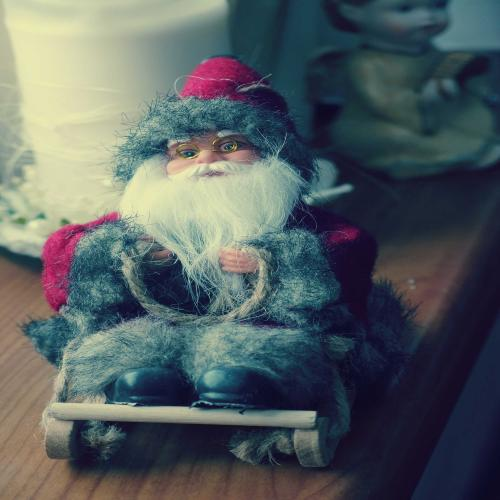Santa: (42, 56, 384, 412)
